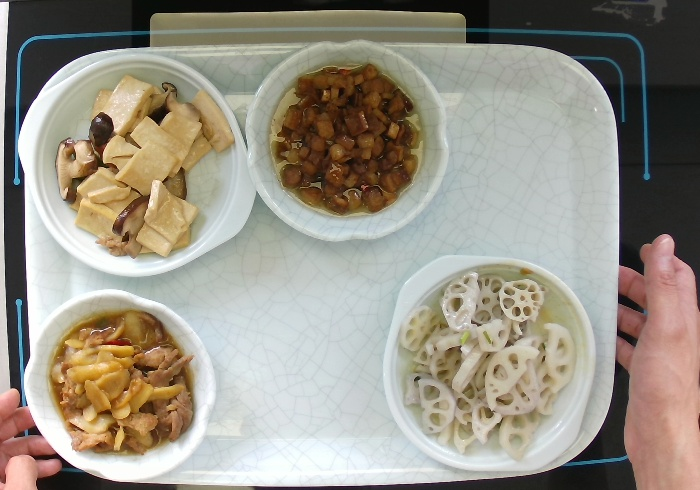JYsf-Ao_Yuan_Wan: (243, 36, 455, 247), (20, 285, 221, 484)
JYsf-Shuang_Er_Pan: (14, 49, 259, 282), (379, 249, 601, 477)
